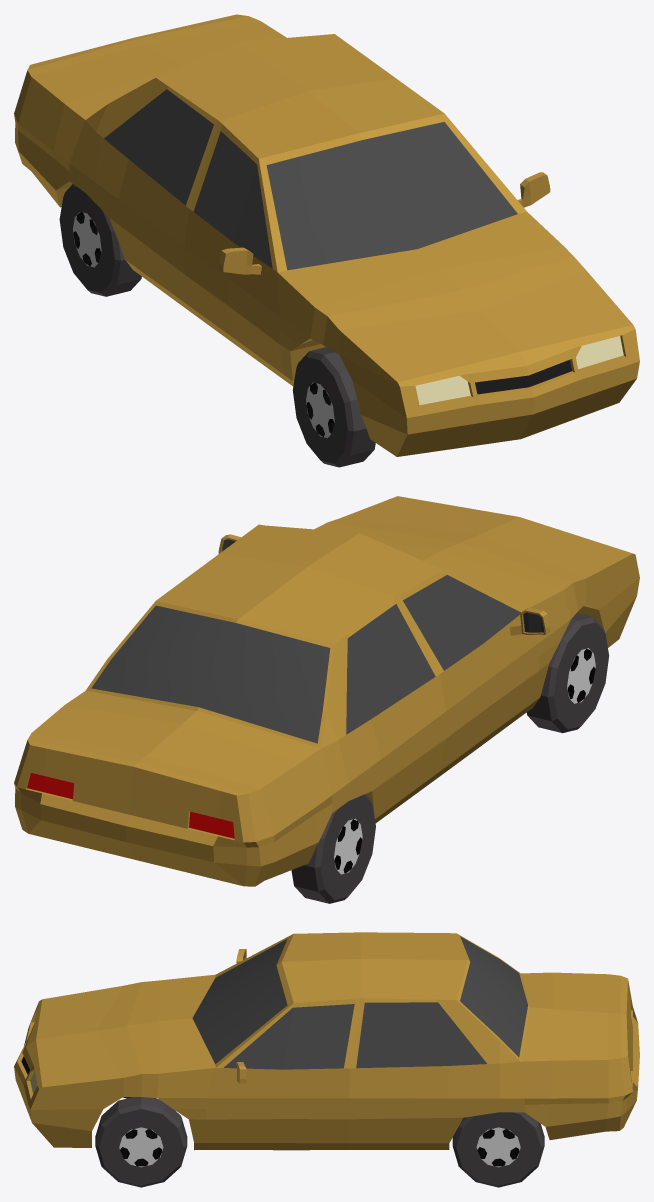
File: 7yellow.fbx
The picture shows the model from 3 angles, top to bottom: view 1: azimuth 30°, elevation 25°; view 2: azimuth 150°, elevation 25°; view 3: azimuth 270°, elevation 25°; orthographic projection. The views are drawn at different scales.
Visible parts, largest first — view 1: Cube; view 2: Cube; view 3: Cube.
Part boxes in pixels (bbox=[...]): Cube: bbox=[14, 14, 639, 467]; Cube: bbox=[14, 496, 639, 903]; Cube: bbox=[14, 932, 639, 1187].
Bounding box in the file's own units: 275 × 190 × 594.
